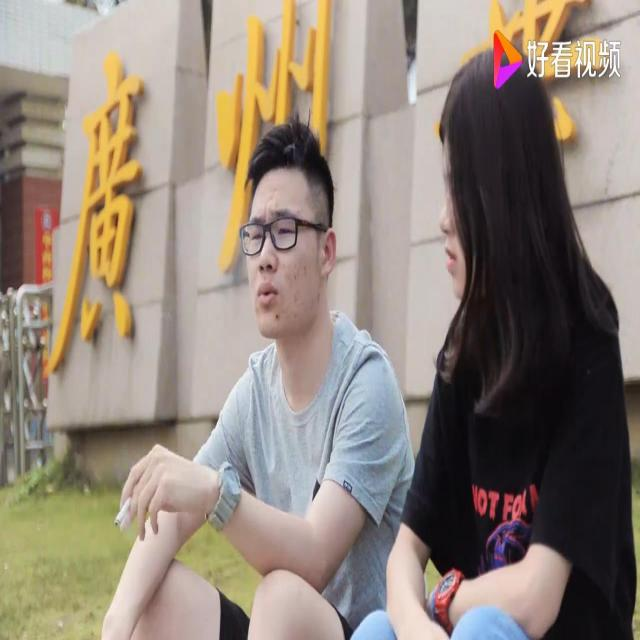cigarette: (111, 486, 138, 532)
